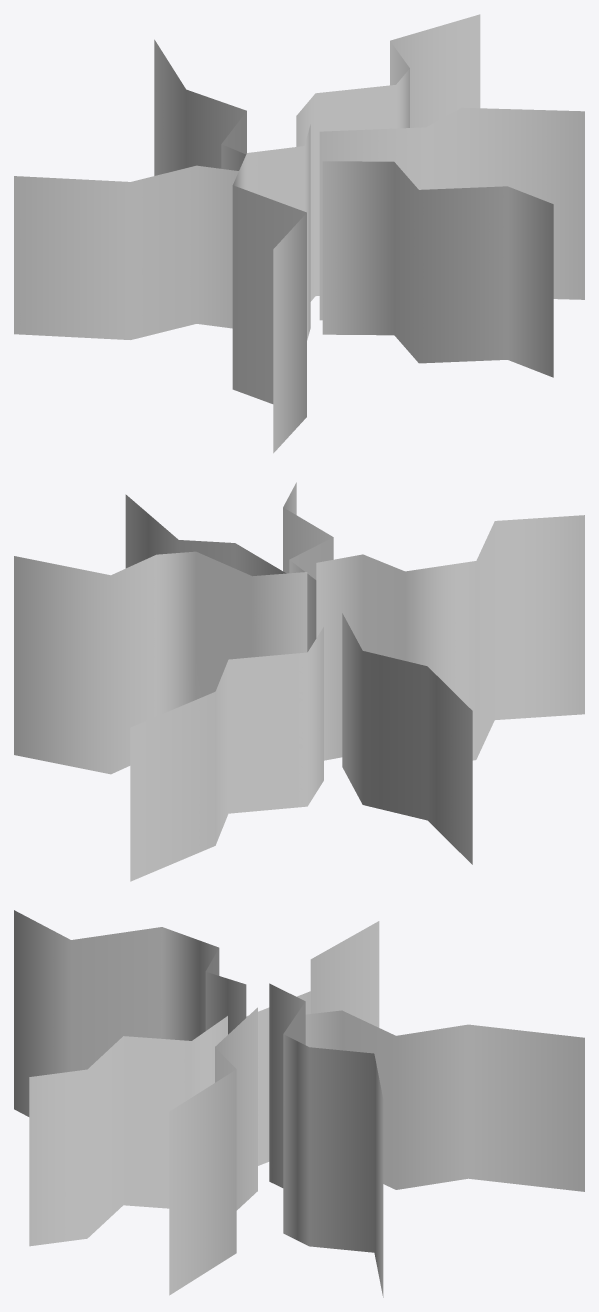
Rendered from OrcImpactLight.fbx.
3 views of the same model, one above another, from view 1: azimuth 30°, elevation 25°; view 2: azimuth 150°, elevation 25°; view 3: azimuth 270°, elevation 25° (orthographic). The views are drawn at different scales.
Parts seen in each view (by area): view 1: ImpactFlare; view 2: ImpactFlare; view 3: ImpactFlare.
Part boxes in pixels (box(x1,y1,x2,y2)): ImpactFlare: box(14, 14, 584, 453); ImpactFlare: box(14, 482, 584, 881); ImpactFlare: box(14, 910, 584, 1297).
Bounding box in the file's own units: 4.85 × 2.02 × 5.25.
